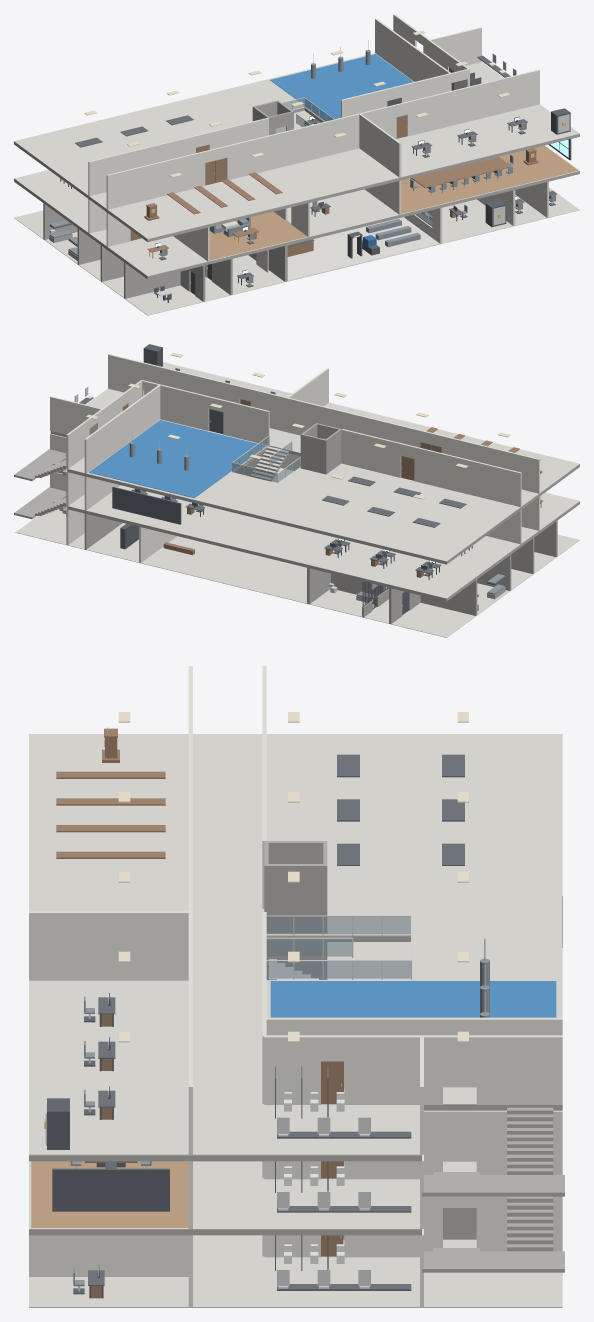
Rendered from SM_Commissariat_Central_Interieur.fbx.
3 views of the same model, one above another, from view 1: azimuth 30°, elevation 25°; view 2: azimuth 150°, elevation 25°; view 3: azimuth 270°, elevation 25° (orthographic). The views are drawn at different scales.
Parts seen in each view (by area): view 1: Comm_Int_R2_Structure, Comm_Int_R1_Structure, Comm_Int_RDC_Structure, Comm_Int_RDC_Mobilier, Comm_Int_R1_Mobilier, Comm_Int_R2_Mobilier; view 2: Comm_Int_R2_Structure, Comm_Int_RDC_Structure, Comm_Int_R1_Structure, Comm_Int_R1_Mobilier, Comm_Int_R2_Mobilier, Comm_Int_RDC_Mobilier; view 3: Comm_Int_R2_Structure, Comm_Int_RDC_Structure, Comm_Int_R1_Structure, Comm_Int_R2_Mobilier, Comm_Int_R1_Mobilier, Comm_Int_RDC_Mobilier, Door_Sanitaires_R2.
Boxes of the visible parts, box(x1,y1,x2,y2) form: Comm_Int_R2_Structure: box(14, 14, 579, 241); Comm_Int_R1_Structure: box(14, 110, 579, 279); Comm_Int_RDC_Structure: box(14, 181, 579, 315); Comm_Int_RDC_Mobilier: box(49, 188, 556, 302); Comm_Int_R1_Mobilier: box(60, 116, 571, 260); Comm_Int_R2_Mobilier: box(75, 40, 570, 220); Comm_Int_R2_Structure: box(50, 352, 579, 564); Comm_Int_RDC_Structure: box(14, 472, 579, 637); Comm_Int_R1_Structure: box(14, 433, 579, 601); Comm_Int_R1_Mobilier: box(112, 486, 542, 579); Comm_Int_R2_Mobilier: box(74, 344, 542, 527); Comm_Int_RDC_Mobilier: box(120, 523, 505, 611); Comm_Int_R2_Structure: box(29, 666, 562, 1161); Comm_Int_RDC_Structure: box(29, 896, 564, 1307); Comm_Int_R1_Structure: box(29, 942, 564, 1235); Comm_Int_R2_Mobilier: box(44, 727, 489, 1149); Comm_Int_R1_Mobilier: box(52, 1161, 411, 1212); Comm_Int_RDC_Mobilier: box(73, 1235, 411, 1298); Door_Sanitaires_R2: box(321, 1061, 343, 1104).
Bounding box in the file's own units: 4750 × 1174 × 2550.
